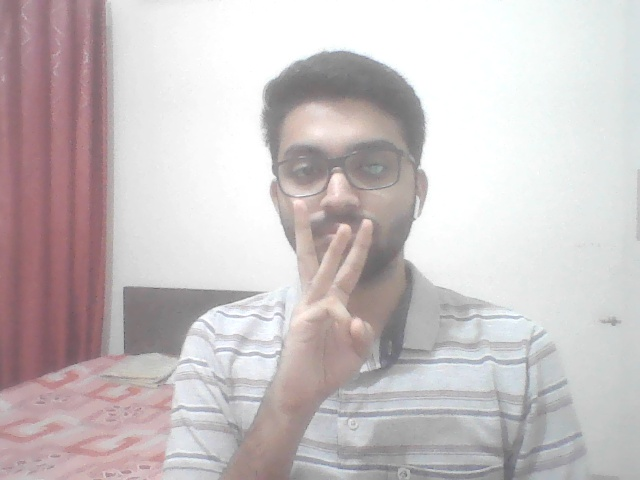water: (259, 186, 402, 429)
